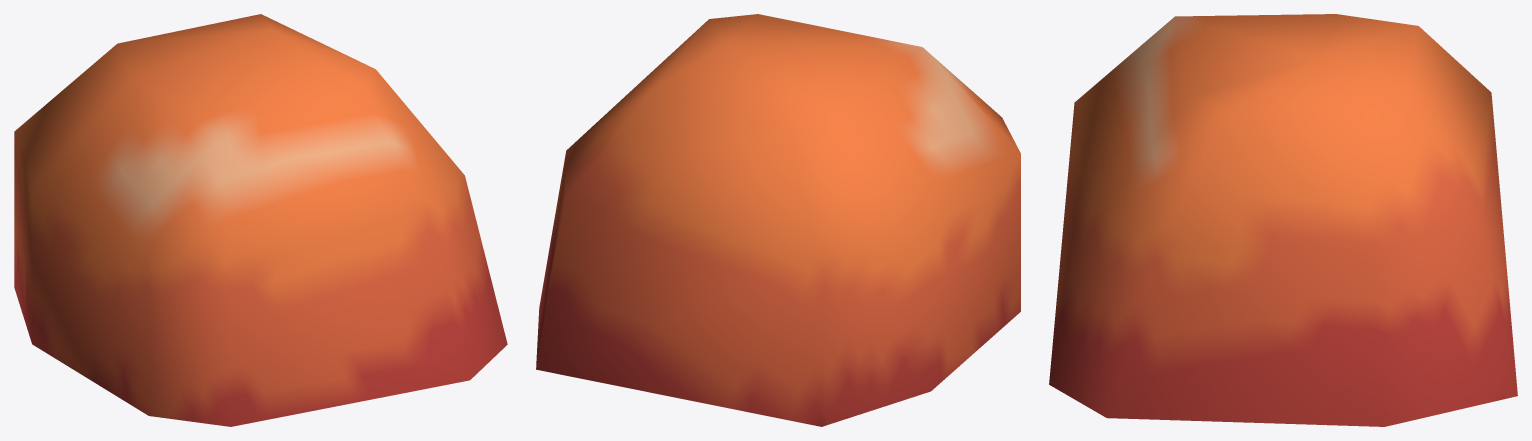
Rendered from Pixel_Misc_S_009.fbx.
3 renders of one model, left to right at view 1: azimuth 30°, elevation 25°; view 2: azimuth 150°, elevation 25°; view 3: azimuth 270°, elevation 25°, orthographic. The views are drawn at different scales.
Parts seen in each view (by area): view 1: Pixel_Misc_S_009; view 2: Pixel_Misc_S_009; view 3: Pixel_Misc_S_009.
Part boxes in pixels (x1,y1,x2,y2): Pixel_Misc_S_009: (14,14,507,426); Pixel_Misc_S_009: (536,14,1020,426); Pixel_Misc_S_009: (1049,14,1517,426).
Size of the model in its own units: 14.92 by 10.45 by 15.33.
